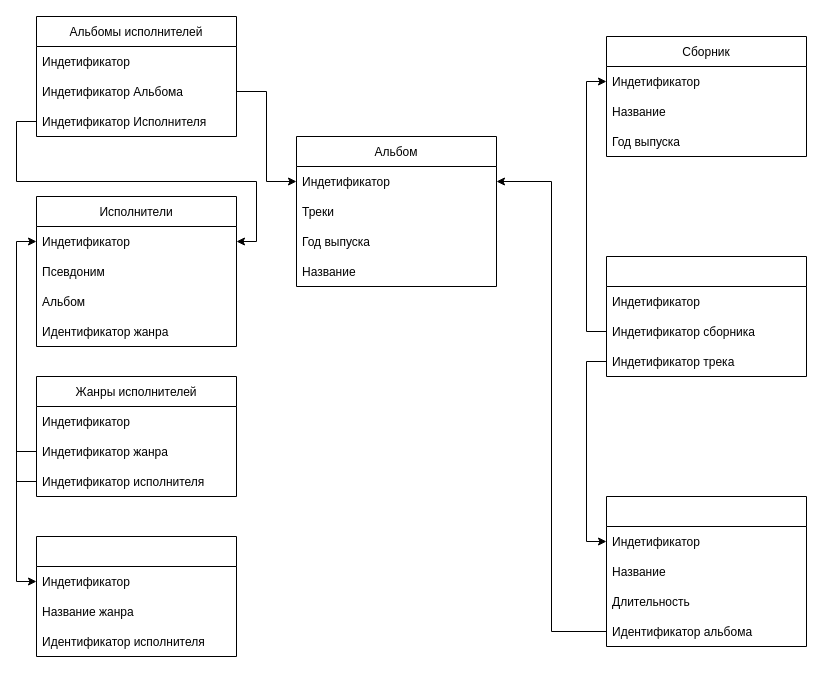
Image size: 823x673. Some labels were removed from this diagram. The box of each missing label's shape, as (x1, y1, x2, y2) in pixels:
Жанры: (36, 536, 236, 656)
Сборник треков: (606, 256, 806, 376)
Трек: (606, 496, 806, 646)
